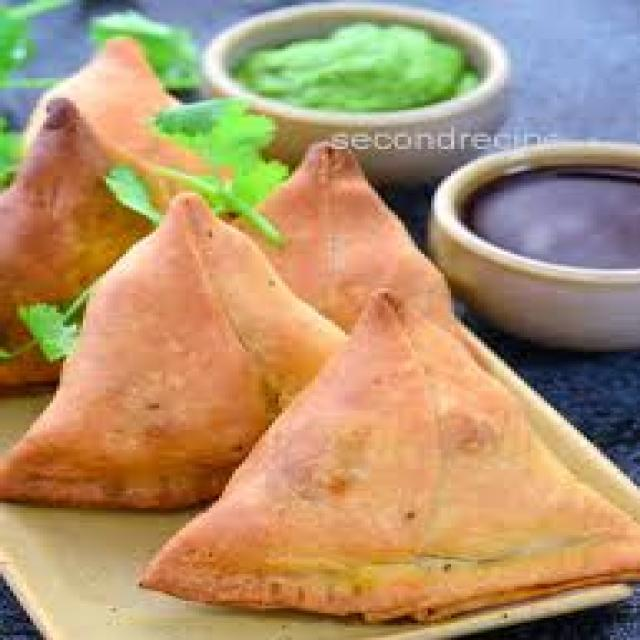SAMOSA: (143, 281, 637, 616), (0, 193, 342, 508), (0, 98, 146, 347), (259, 144, 448, 330), (0, 349, 56, 386)
